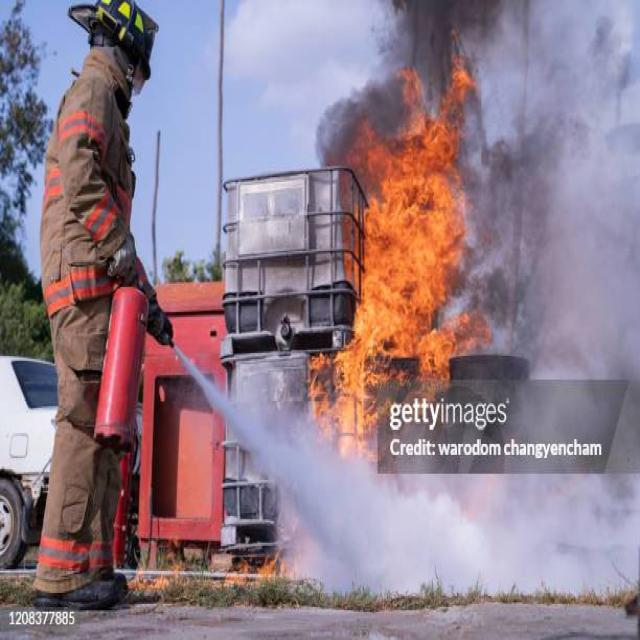fire: (306, 26, 497, 467)
